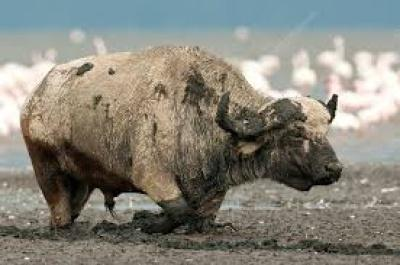buffalo: (20, 46, 341, 232)
